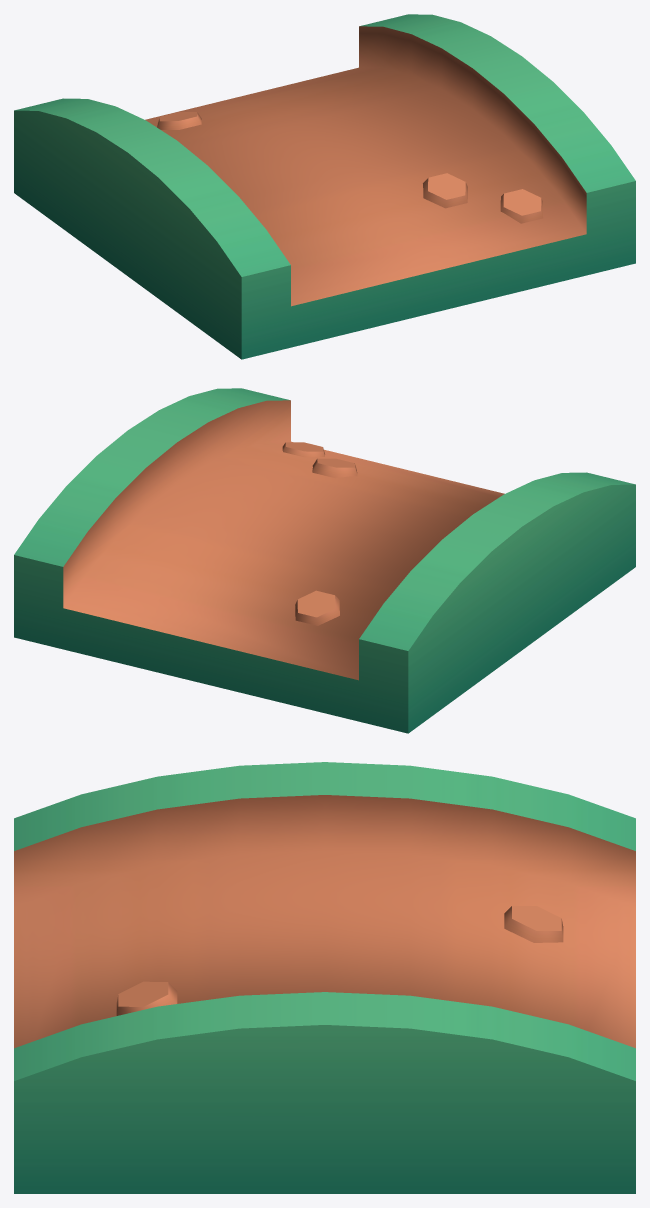
Rendered from kenney-tower-defense-tile-bump.glb.
3 views of the same model, one above another, from view 1: azimuth 30°, elevation 25°; view 2: azimuth 150°, elevation 25°; view 3: azimuth 270°, elevation 25° (orthographic). The views are drawn at different scales.
Parts seen in each view (by area): view 1: tile-bump; view 2: tile-bump; view 3: tile-bump.
Boxes of the visible parts, x1,y1,x2,y2 form: tile-bump: (14,14,635,359); tile-bump: (14,388,635,733); tile-bump: (14,762,635,1193).
Bounding box in the file's own units: 1 × 0.3 × 1.
1 material, 1 textured.
